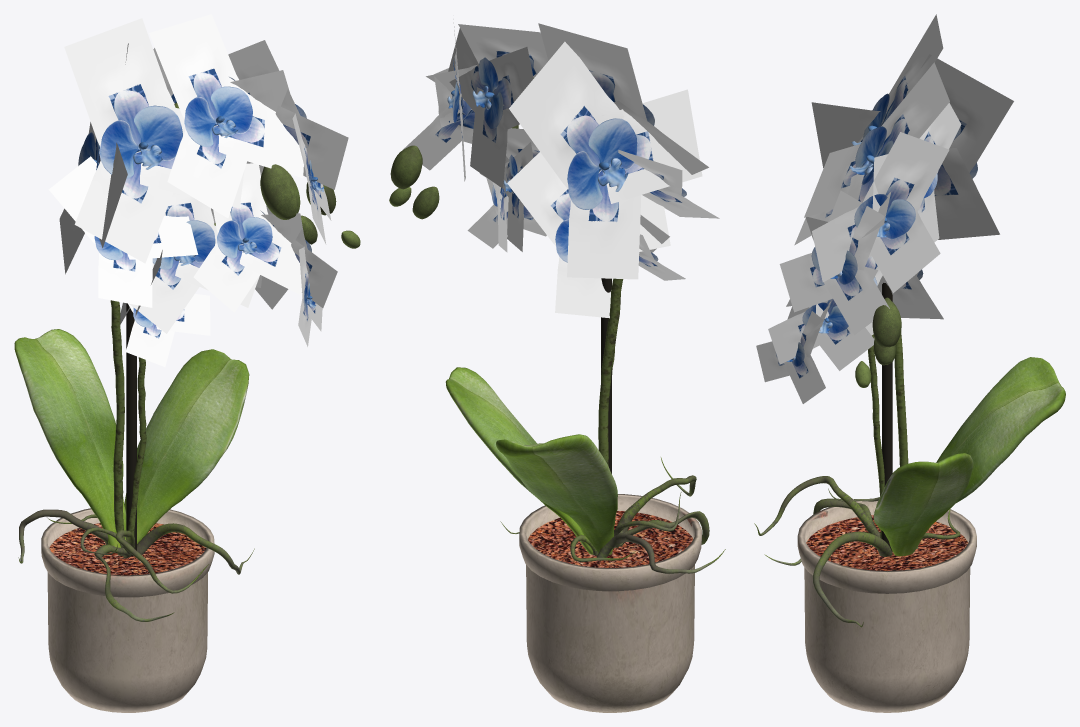
The model's file is Orchid.fbx.
The picture shows the model from 3 angles, left to right: view 1: azimuth 30°, elevation 25°; view 2: azimuth 150°, elevation 25°; view 3: azimuth 270°, elevation 25°; orthographic projection. The views are drawn at different scales.
Visible parts, largest first — view 1: Orchid4 (×7), Vase, Leafs, Orchid13, Orchid15, Root, Orchid14, Sprouts, Stem, Orchid18, Stem_Support, Stem2 (+2 smaller); view 2: Orchid4 (×7), Vase, Leafs, Orchid16, Root, Sprouts, Stem, Orchid17, Orchid12, Orchid14, Orchid18, Stem_Support (+2 smaller); view 3: Orchid4 (×6), Vase, Leafs, Orchid18, Root, Orchid12, Sprouts, Orchid16, Stem_Support, Stem, Stem2.
Part boxes in pixels (x1,y1,x2,y2): Orchid4 (×7): (48,14,348,307); Vase: (41,508,214,712); Leafs: (14,329,249,547); Orchid13: (193,163,315,312); Orchid15: (129,192,259,333); Root: (18,509,254,621); Orchid14: (126,294,210,366); Sprouts: (260,164,360,248); Stem: (110,102,179,547); Orchid18: (255,205,337,309); Stem_Support: (126,303,136,555); Stem2: (128,223,215,547); Orchid4 (×7): (403,19,719,279); Vase: (519,494,701,712); Leafs: (445,367,617,555); Orchid16: (507,152,670,318); Root: (500,457,725,573); Sprouts: (389,125,518,219); Stem: (533,77,623,465); Orchid17: (503,142,533,251); Orchid12: (467,177,546,248); Orchid14: (638,234,685,280); Orchid18: (491,182,508,252); Stem_Support: (601,278,611,473); Orchid4 (×6): (779,14,1013,335); Vase: (797,498,976,712); Leafs: (873,357,1065,556); Orchid18: (768,267,877,370); Root: (754,476,960,627); Orchid12: (756,306,825,403); Sprouts: (855,297,901,387); Orchid16: (805,217,943,319); Stem_Support: (882,283,892,552); Stem: (894,331,908,466); Stem2: (868,334,884,538).
Bounding box in the file's own units: 17.86 × 33.07 × 14.18.
10 materials, 10 textured.
